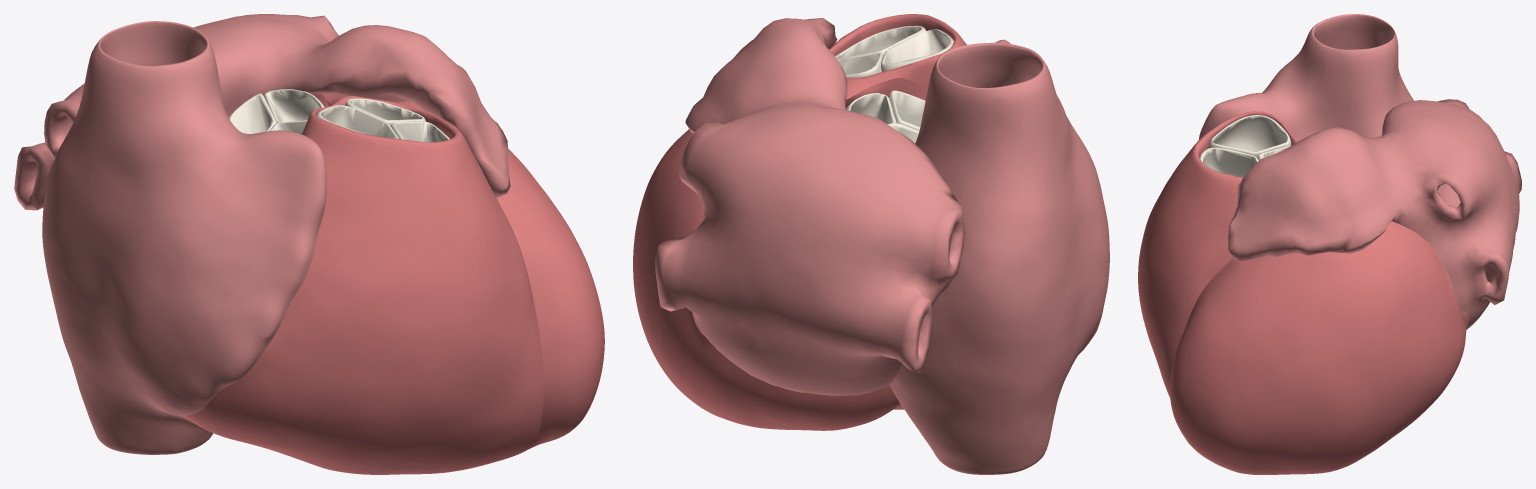
Rendered from heart.glb.
The picture shows the model from 3 angles, left to right: view 1: azimuth 30°, elevation 25°; view 2: azimuth 150°, elevation 25°; view 3: azimuth 270°, elevation 25°; orthographic projection. The views are drawn at different scales.
Parts seen in each view (by area): view 1: Right atrium.001, Right ventricle.001, Left atrium.001, Left ventricle.001, Left coronary leaflet.001, Right semilunar leaflet of pulmonary valve.001, Non-coronary leaflet.001, Left semilunar leaflet of pulmonary valve.001, Anterior semilunar leaflet of pulmonary valve.001; view 2: Left atrium.001, Right atrium.001, Left ventricle.001, Right ventricle.001, Right semilunar leaflet of pulmonary valve.001, Anterior semilunar leaflet of pulmonary valve.001, Right coronary leaflet.001, Left coronary leaflet.001, Left semilunar leaflet of pulmonary valve.001; view 3: Left ventricle.001, Left atrium.001, Right atrium.001, Right ventricle.001, Right semilunar leaflet of pulmonary valve.001, Anterior semilunar leaflet of pulmonary valve.001.
Boxes of the visible parts, x1,y1,x2,y2 form: Right atrium.001: [42, 21, 326, 454]; Right ventricle.001: [184, 93, 544, 474]; Left atrium.001: [14, 14, 510, 210]; Left ventricle.001: [311, 93, 604, 446]; Left coronary leaflet.001: [264, 89, 324, 123]; Right semilunar leaflet of pulmonary valve.001: [316, 105, 398, 138]; Non-coronary leaflet.001: [229, 93, 276, 133]; Left semilunar leaflet of pulmonary valve.001: [345, 98, 425, 125]; Anterior semilunar leaflet of pulmonary valve.001: [390, 121, 449, 142]; Left atrium.001: [655, 18, 964, 395]; Right atrium.001: [889, 39, 1109, 474]; Left ventricle.001: [633, 77, 927, 430]; Right ventricle.001: [829, 14, 966, 409]; Right semilunar leaflet of pulmonary valve.001: [881, 29, 954, 71]; Anterior semilunar leaflet of pulmonary valve.001: [835, 25, 926, 59]; Right coronary leaflet.001: [888, 90, 925, 130]; Left coronary leaflet.001: [846, 93, 896, 124]; Left semilunar leaflet of pulmonary valve.001: [837, 52, 883, 77]; Left ventricle.001: [1170, 221, 1467, 474]; Left atrium.001: [1228, 99, 1521, 329]; Right atrium.001: [1198, 14, 1413, 221]; Right ventricle.001: [1138, 111, 1299, 397]; Right semilunar leaflet of pulmonary valve.001: [1209, 115, 1291, 159]; Anterior semilunar leaflet of pulmonary valve.001: [1200, 147, 1258, 177].
Bounding box in the file's own units: 2.6 × 2.36 × 2.46.
